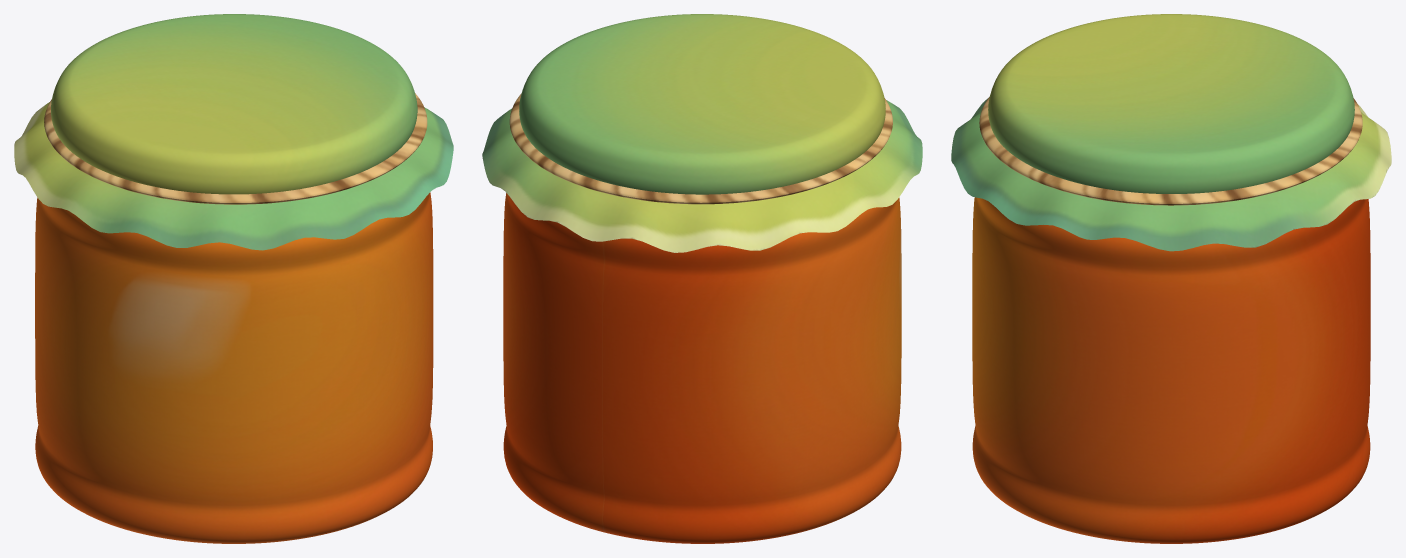
File: JamJar(New).fbx
The picture shows the model from 3 angles, left to right: view 1: azimuth 30°, elevation 25°; view 2: azimuth 150°, elevation 25°; view 3: azimuth 270°, elevation 25°; orthographic projection.
Parts seen in each view (by area): view 1: Cylinder; view 2: Cylinder; view 3: Cylinder.
Part boxes in pixels (left/top/right/bottom): Cylinder: left=14, top=14, right=453, bottom=543; Cylinder: left=482, top=14, right=922, bottom=543; Cylinder: left=951, top=14, right=1391, bottom=543.
Size of the model in its own units: 2.1 by 2.04 by 2.1.
2 materials, 2 textured.
